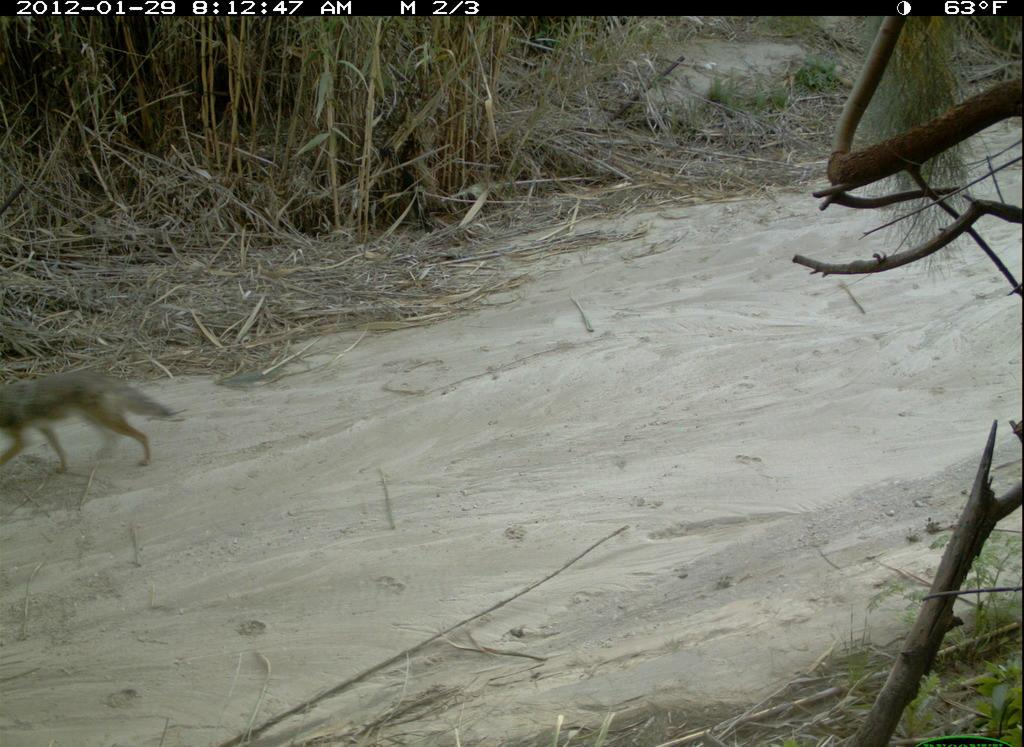coyote: (4, 360, 191, 483)
